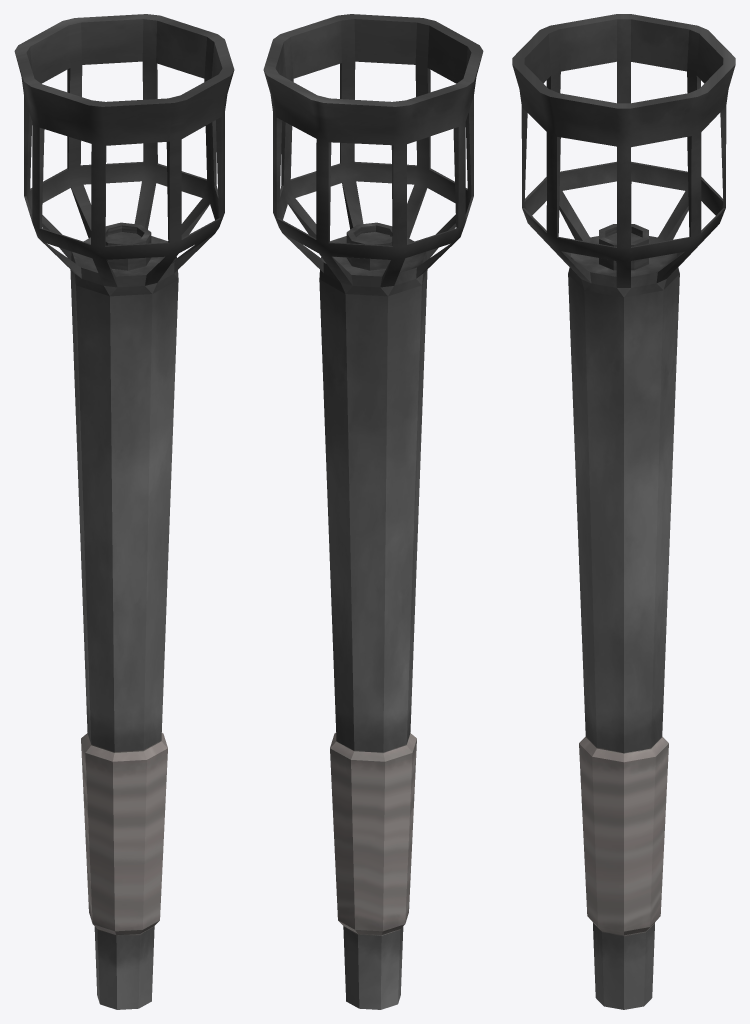
File: 3dmodel_firetorch_v1_sc.fbx
The picture shows the model from 3 angles, left to right: view 1: azimuth 30°, elevation 25°; view 2: azimuth 150°, elevation 25°; view 3: azimuth 270°, elevation 25°; orthographic projection.
Parts seen in each view (by area): view 1: fire_torch; view 2: fire_torch; view 3: fire_torch.
Part boxes in pixels (left/top/right/bottom): fire_torch: left=14, top=14, right=234, bottom=1009; fire_torch: left=263, top=14, right=483, bottom=1009; fire_torch: left=512, top=14, right=735, bottom=1009.
Size of the model in its own units: 0.0697 by 0.3222 by 0.0697.
